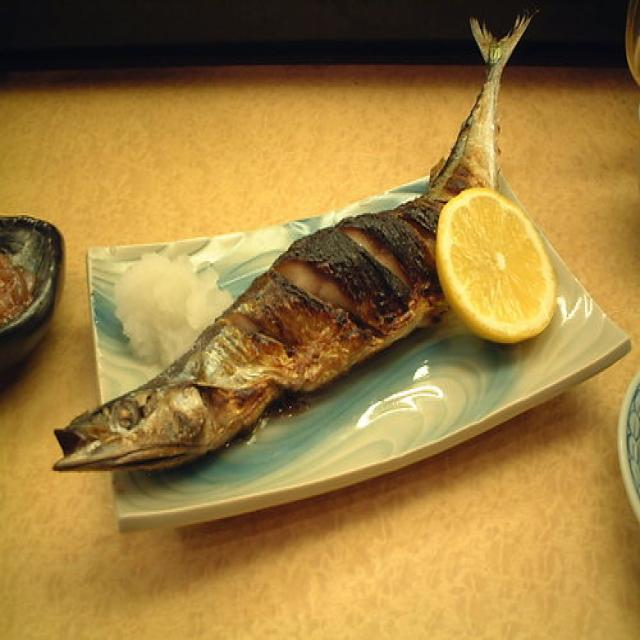熟制海鲜: (41, 2, 608, 500)
